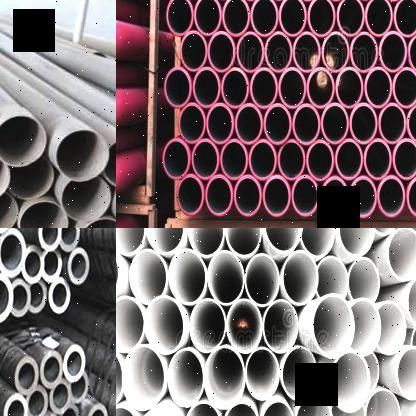pipe: (312, 294, 356, 358), (56, 130, 110, 182), (122, 345, 164, 411), (204, 346, 245, 410), (330, 350, 371, 414), (0, 115, 47, 167), (144, 295, 184, 355), (60, 177, 111, 221), (168, 248, 206, 306), (128, 249, 168, 304), (168, 348, 204, 408), (207, 250, 244, 306), (282, 250, 319, 306), (8, 156, 54, 200), (226, 299, 262, 354), (190, 299, 226, 353), (262, 299, 298, 353), (245, 253, 280, 307), (282, 347, 317, 401), (350, 298, 382, 356), (246, 348, 280, 401), (116, 295, 144, 353), (377, 300, 406, 356), (387, 228, 416, 281), (348, 257, 380, 303), (316, 255, 348, 300), (0, 228, 26, 280), (19, 201, 69, 228), (192, 66, 221, 108), (12, 354, 40, 397), (180, 30, 208, 72), (379, 30, 407, 72), (322, 31, 350, 73), (164, 66, 192, 108), (364, 66, 392, 108), (250, 67, 278, 109), (292, 103, 320, 145), (206, 104, 234, 146), (162, 138, 190, 180), (364, 138, 392, 180), (176, 174, 204, 216), (292, 174, 320, 216), (377, 175, 405, 217), (349, 176, 377, 218), (320, 176, 348, 218), (293, 31, 321, 72), (236, 31, 264, 72), (307, 67, 335, 108), (350, 103, 378, 144), (378, 103, 406, 144), (264, 103, 292, 144), (306, 140, 334, 181), (206, 174, 233, 216), (350, 32, 378, 72), (221, 68, 249, 108), (278, 68, 306, 108), (178, 104, 206, 144), (219, 140, 247, 180), (278, 140, 306, 180), (249, 140, 277, 180), (262, 176, 290, 216), (234, 176, 262, 216), (338, 228, 375, 258), (225, 228, 262, 258), (322, 103, 349, 144), (192, 139, 219, 180), (336, 66, 362, 108), (208, 32, 235, 72), (265, 32, 292, 72), (235, 104, 262, 144), (335, 140, 362, 180), (396, 346, 416, 400), (187, 228, 224, 257), (145, 228, 184, 255), (63, 340, 88, 382), (300, 228, 335, 258), (365, 0, 393, 37), (222, 0, 250, 37), (307, 0, 335, 37), (40, 348, 64, 391), (193, 0, 221, 36), (250, 0, 278, 36), (279, 0, 307, 36), (365, 388, 401, 416), (263, 228, 303, 253), (392, 139, 416, 180), (337, 0, 364, 36), (166, 0, 192, 36), (22, 242, 44, 284), (10, 276, 32, 318), (393, 67, 416, 107), (69, 247, 93, 285), (393, 0, 416, 37), (42, 247, 64, 285), (50, 378, 72, 414), (116, 228, 145, 255), (68, 371, 91, 405), (295, 396, 333, 416), (50, 278, 72, 312), (27, 280, 47, 316), (27, 384, 49, 416), (1, 391, 29, 416), (0, 271, 13, 322), (0, 193, 18, 228), (37, 228, 61, 253), (406, 274, 416, 329), (184, 402, 222, 416), (60, 228, 81, 253), (223, 402, 260, 416), (261, 401, 295, 416), (331, 403, 366, 416), (85, 400, 111, 416), (407, 32, 416, 74), (407, 176, 416, 218), (407, 102, 416, 143), (59, 402, 82, 416)
